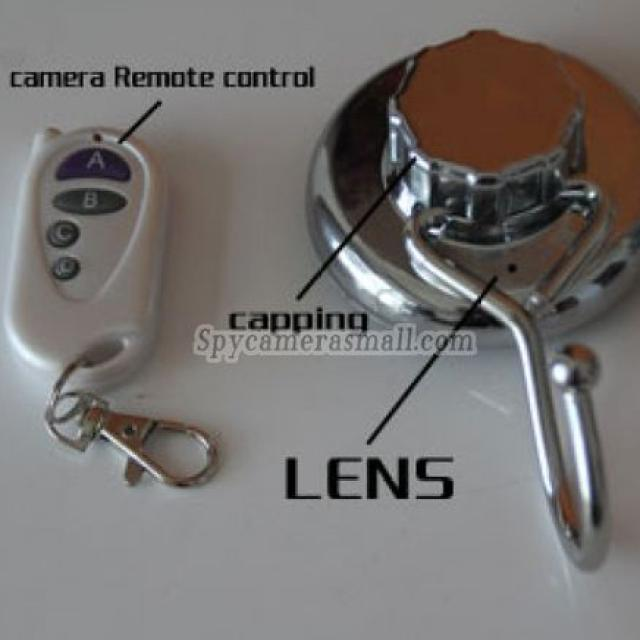hidden camera: (504, 260, 521, 277)
